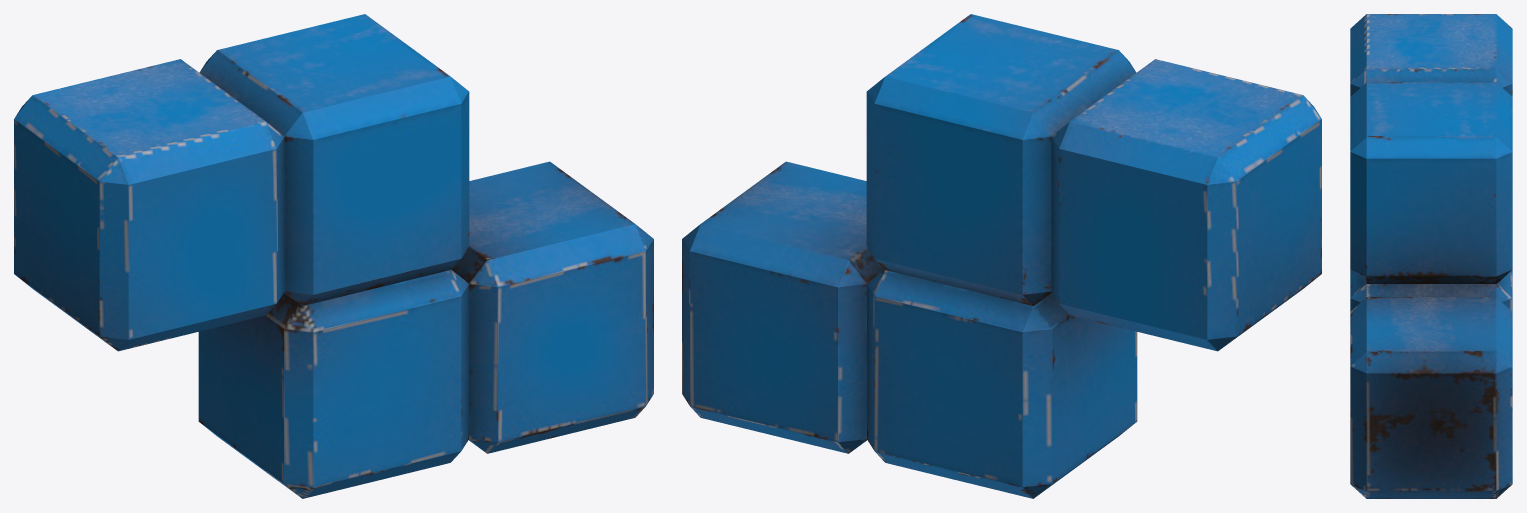
Rendered from blocks_4.fbx.
3 renders of one model, left to right at view 1: azimuth 30°, elevation 25°; view 2: azimuth 150°, elevation 25°; view 3: azimuth 270°, elevation 25°, orthographic. The views are drawn at different scales.
Parts seen in each view (by area): view 1: polySurface15; view 2: polySurface15; view 3: polySurface15.
Part boxes in pixels (box(x1,y1,x2,y2)): polySurface15: box(14, 14, 653, 498); polySurface15: box(682, 14, 1321, 498); polySurface15: box(1350, 14, 1512, 498).
Bounding box in the file's own units: 2.99 × 1.99 × 1.
